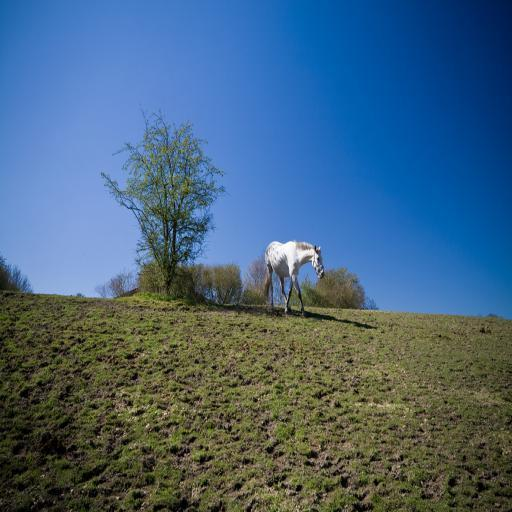horse: (264, 239, 324, 313)
